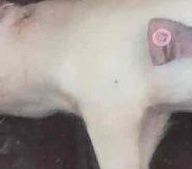text: (140, 20, 182, 57)
